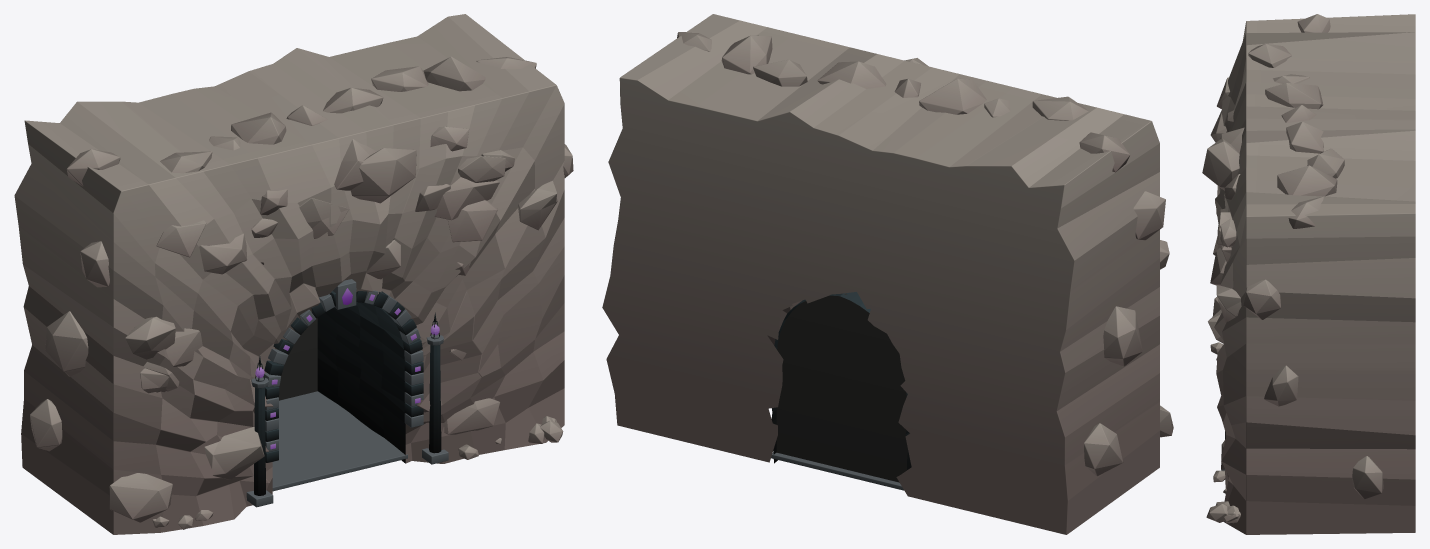
The model's file is dusk_gate.glb.
The picture shows the model from 3 angles, left to right: view 1: azimuth 30°, elevation 25°; view 2: azimuth 150°, elevation 25°; view 3: azimuth 270°, elevation 25°; orthographic projection. The views are drawn at different scales.
Parts seen in each view (by area): view 1: dusk_gate; view 2: dusk_gate; view 3: dusk_gate.
Boxes of the visible parts, x1,y1,x2,y2 form: dusk_gate: [14, 14, 573, 534]; dusk_gate: [602, 14, 1173, 534]; dusk_gate: [1202, 14, 1415, 534].
Size of the model in its own units: 36.89 by 26.11 by 15.1.
4 materials, 4 textured.
